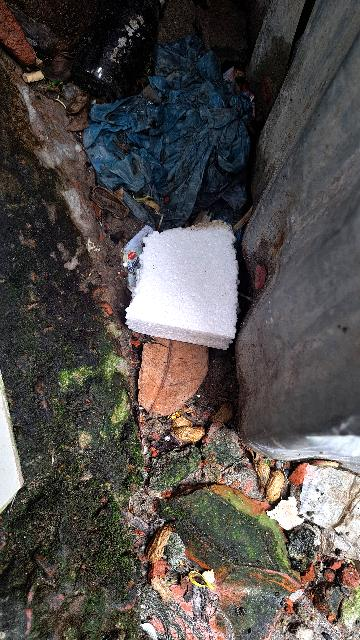cocksheet: (110, 201, 291, 384)
